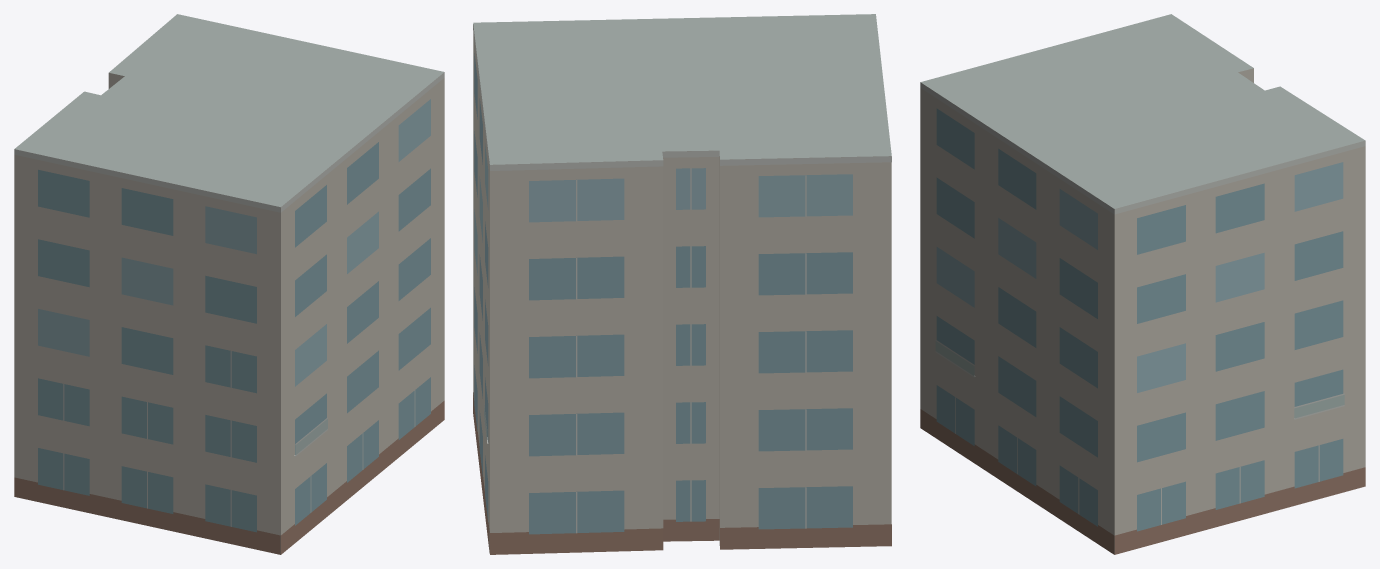
File: survey-upis-32981029.glb
The picture shows the model from 3 angles, left to right: view 1: azimuth 30°, elevation 25°; view 2: azimuth 150°, elevation 25°; view 3: azimuth 270°, elevation 25°; orthographic projection. The views are drawn at different scales.
Visible parts, largest first — view 1: survey-upis-32981029.tmp; view 2: survey-upis-32981029.tmp; view 3: survey-upis-32981029.tmp.
Part boxes in pixels (x1,y1,x2,y2): survey-upis-32981029.tmp: (14, 14, 444, 554); survey-upis-32981029.tmp: (473, 14, 891, 554); survey-upis-32981029.tmp: (920, 14, 1365, 554).
Bounding box in the file's own units: 18.51 × 15.3 × 17.86.
